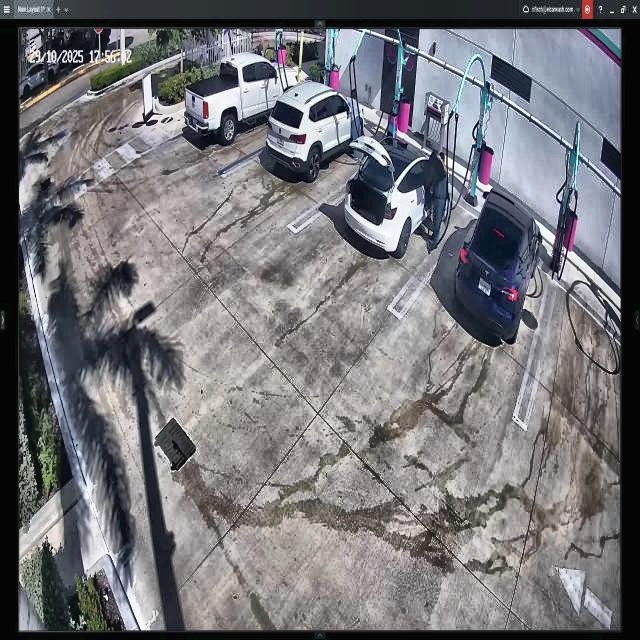Car: (452, 182, 543, 344), (351, 136, 445, 264), (180, 60, 301, 142), (265, 84, 362, 176)
